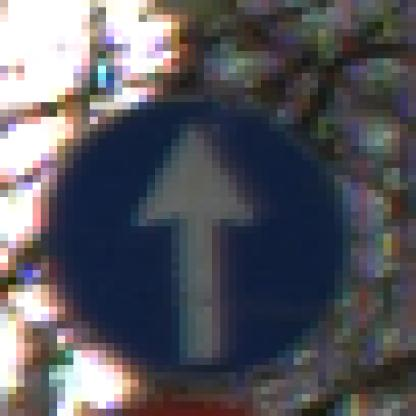AheadOnly: (42, 45, 376, 373)
